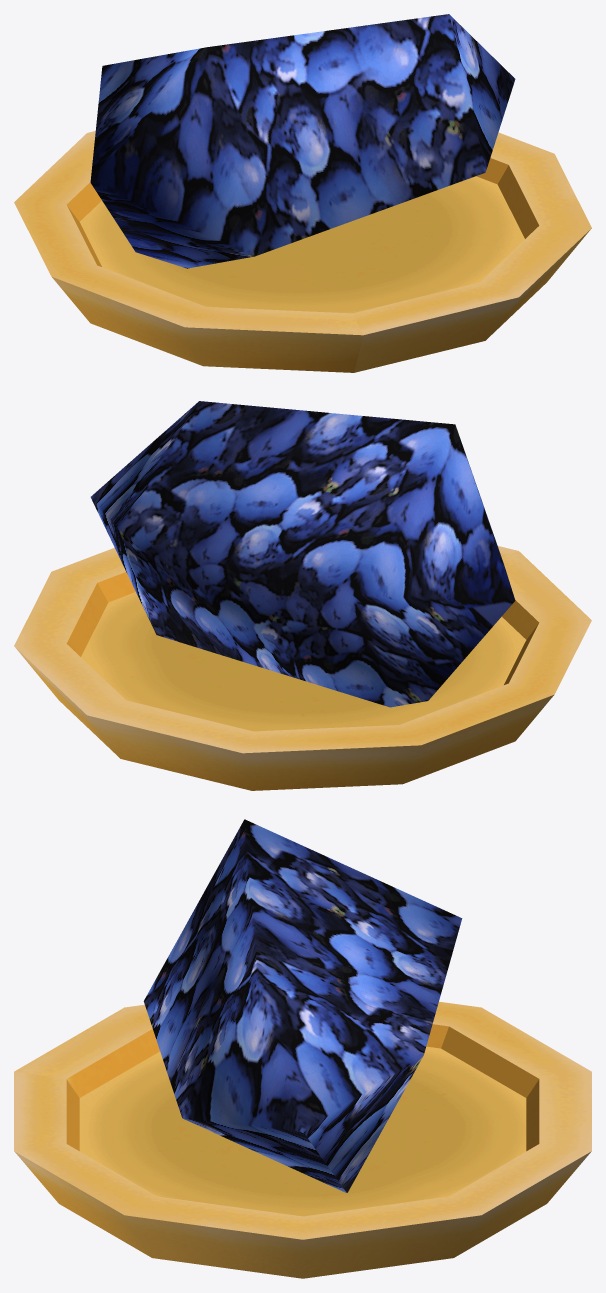
The model's file is grape_1.fbx.
3 renders of one model, top to bottom at view 1: azimuth 30°, elevation 25°; view 2: azimuth 150°, elevation 25°; view 3: azimuth 270°, elevation 25°, orthographic. The views are drawn at different scales.
Parts seen in each view (by area): view 1: Object001; view 2: Object001; view 3: Object001.
Boxes of the visible parts, x1=… form: Object001: x1=14, y1=14, x2=591, y2=372; Object001: x1=14, y1=401, x2=591, y2=790; Object001: x1=14, y1=819, x2=591, y2=1278.
Bounding box in the file's own units: 20.99 × 10.96 × 19.96.
